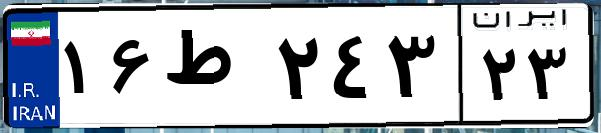1: (57, 26, 110, 100)
2: (270, 28, 330, 110), (475, 38, 525, 113)
3: (385, 28, 445, 110), (525, 38, 570, 115)
4: (330, 28, 385, 110)
6: (110, 28, 158, 98)
ط: (158, 20, 270, 120)
